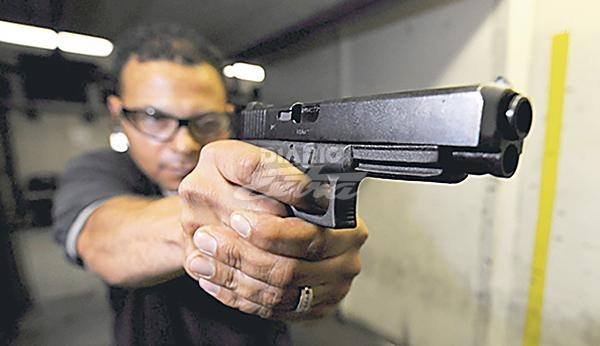Arma Real: (229, 78, 542, 232)
